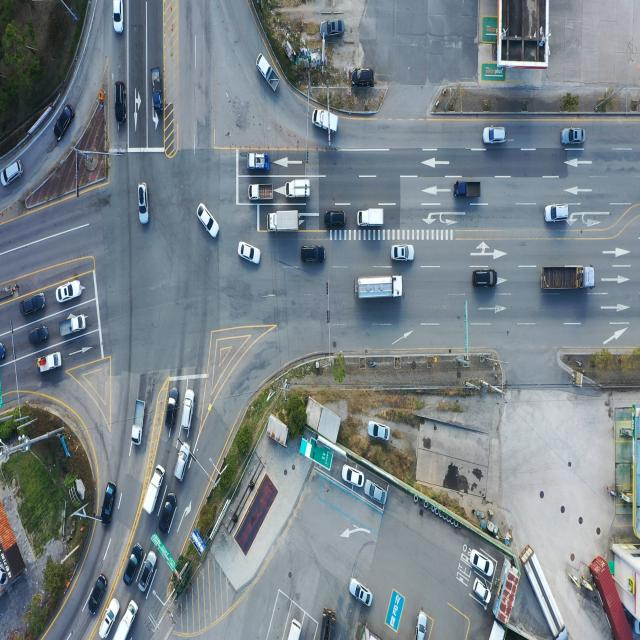car: (98, 596, 120, 638), (139, 551, 158, 594), (55, 106, 76, 144), (198, 203, 220, 239), (124, 546, 142, 588), (160, 494, 178, 535), (91, 575, 109, 615), (174, 442, 191, 483), (349, 579, 372, 609), (102, 482, 116, 528), (164, 388, 178, 431), (58, 280, 83, 304), (0, 162, 22, 188), (364, 481, 386, 507), (238, 242, 261, 266), (22, 294, 46, 317), (184, 391, 197, 433), (471, 552, 492, 578), (474, 576, 493, 604), (114, 80, 126, 124), (349, 67, 375, 87), (472, 268, 496, 289), (343, 465, 364, 488), (302, 244, 326, 264), (139, 180, 150, 222), (544, 204, 568, 223), (367, 421, 389, 441), (320, 20, 344, 38), (326, 210, 348, 229), (562, 128, 585, 146), (112, 0, 124, 34), (391, 245, 414, 262), (484, 128, 507, 145), (29, 328, 49, 346), (416, 612, 428, 640), (0, 344, 6, 365)
medium_truck: (523, 544, 568, 638), (542, 266, 596, 294), (352, 276, 400, 302), (268, 208, 302, 232), (322, 608, 338, 640)
small_bus: (288, 616, 302, 640)
small_truck: (144, 464, 166, 517), (113, 599, 137, 640), (259, 54, 281, 92), (312, 107, 340, 134), (58, 314, 86, 338), (150, 67, 162, 118), (133, 399, 146, 446), (358, 208, 385, 228), (452, 180, 480, 199), (38, 352, 63, 373), (285, 178, 310, 199), (248, 182, 274, 201), (249, 154, 272, 172)
